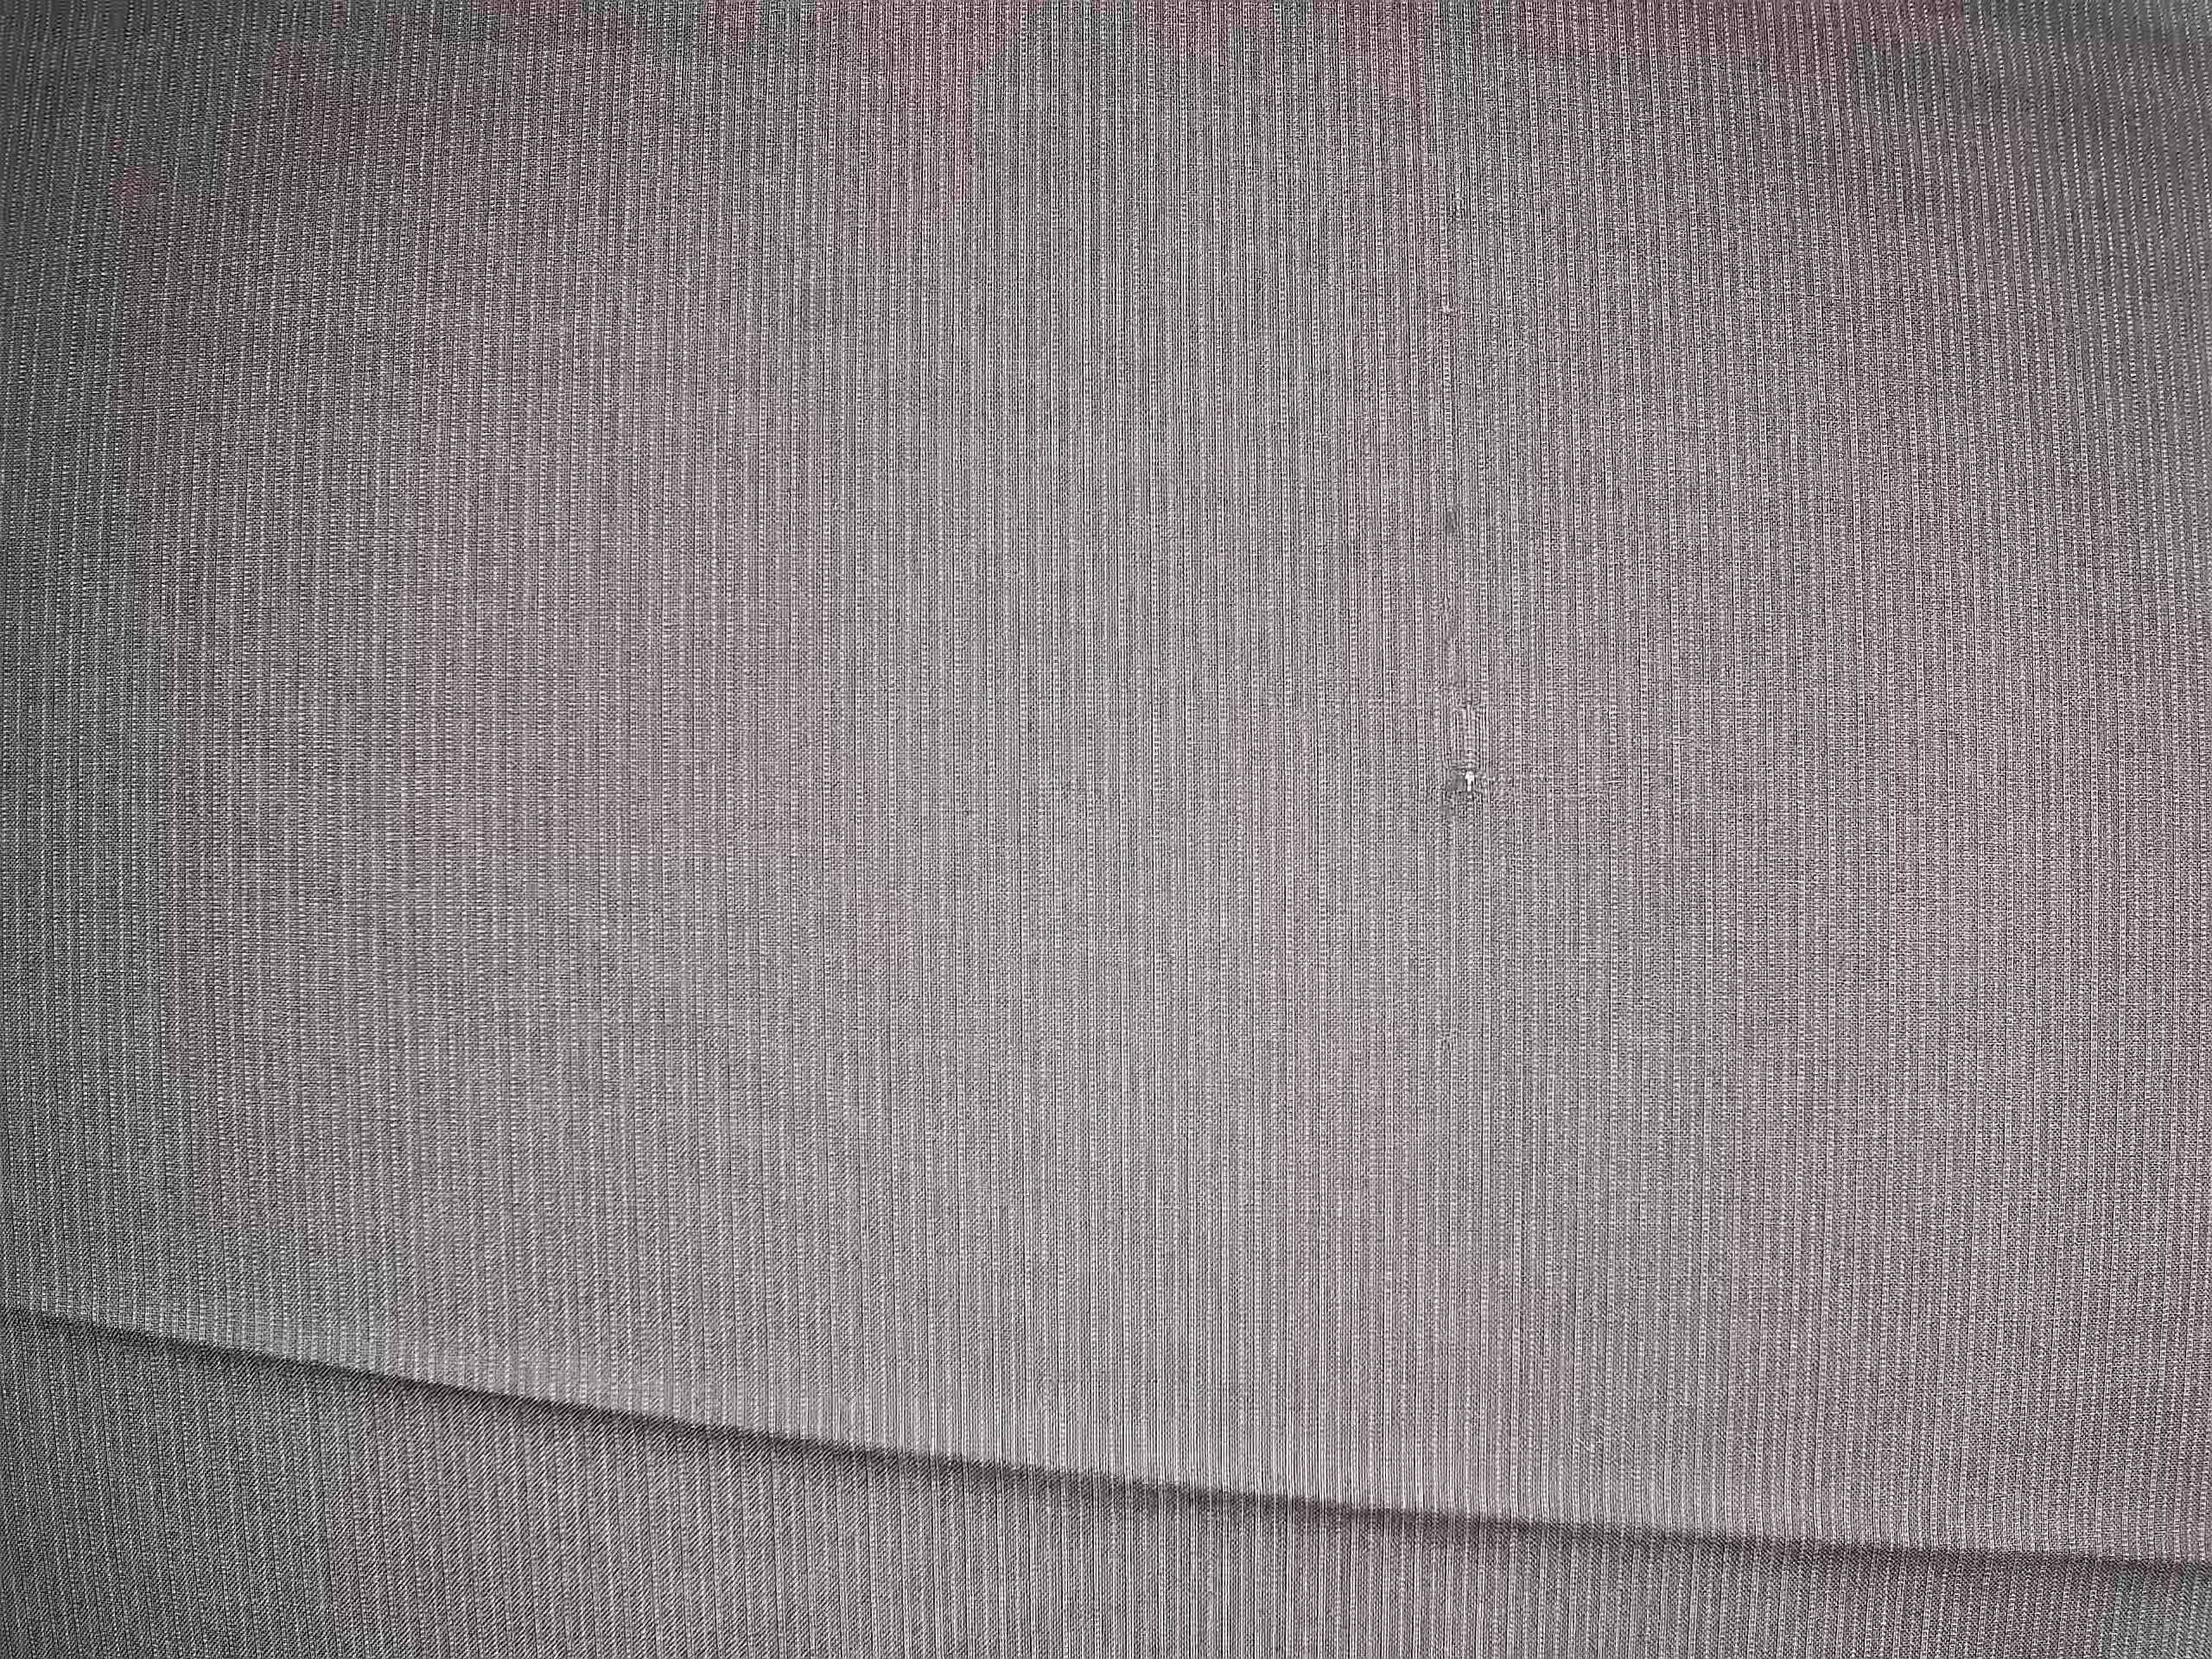jumps: (1419, 181, 1471, 556), (1430, 625, 1525, 813)
